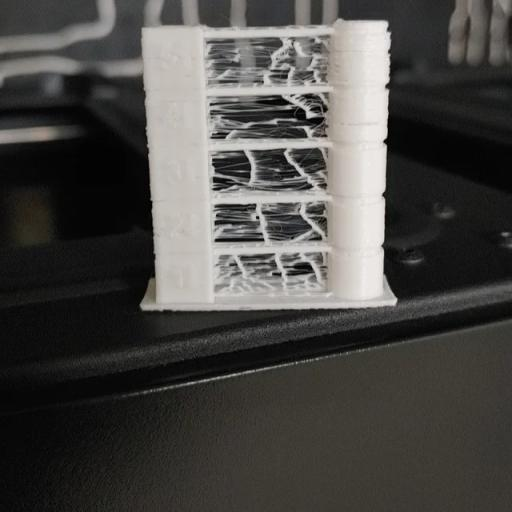stringing: (204, 41, 320, 80), (215, 98, 324, 136), (214, 153, 322, 188), (222, 258, 327, 294), (214, 210, 322, 238)
